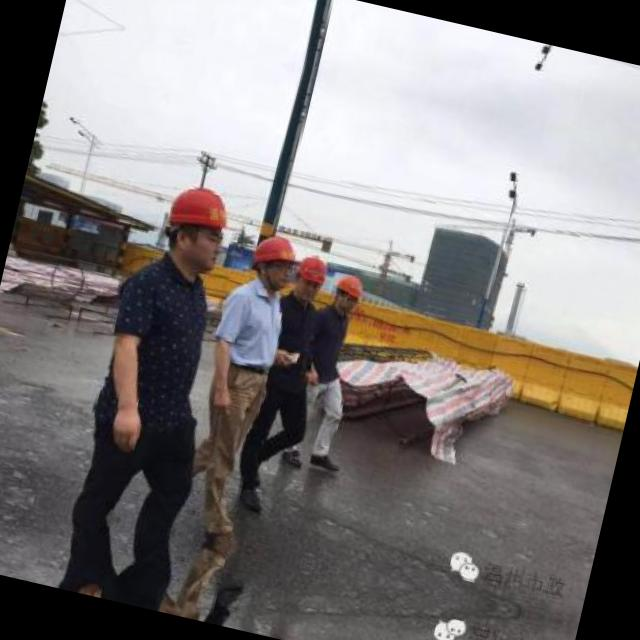helmet: (153, 176, 239, 280), (250, 230, 304, 290), (323, 268, 364, 320), (291, 248, 329, 298)
